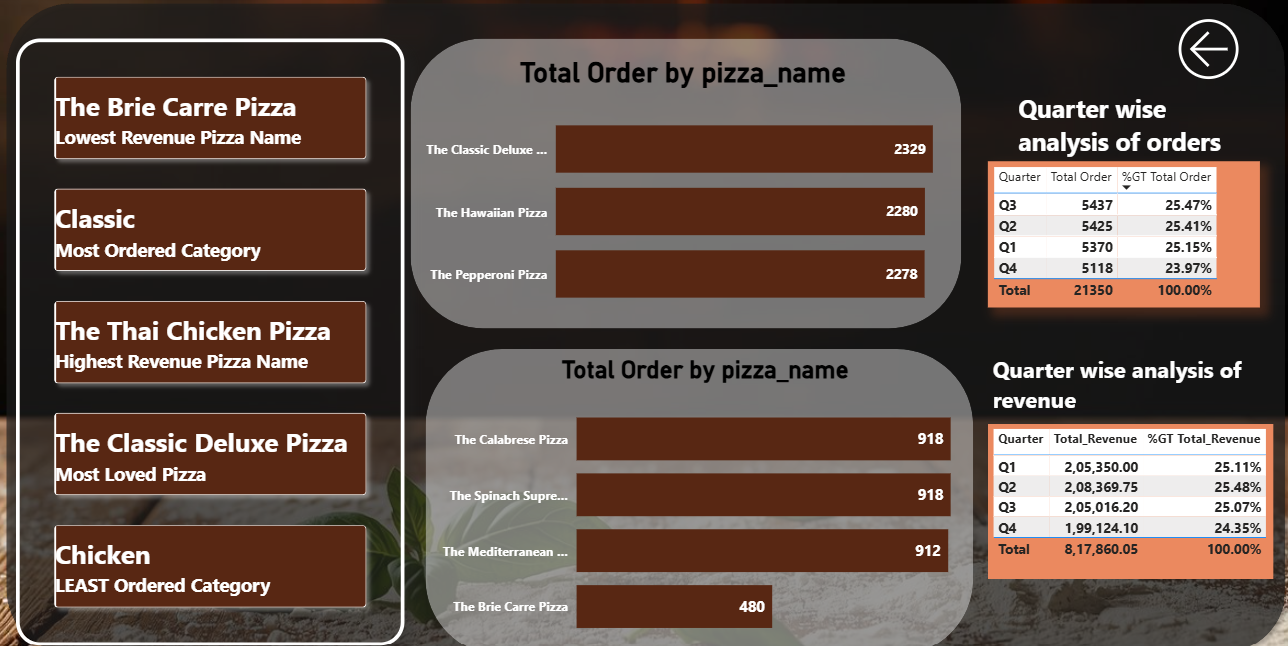

This screenshot's page, from the dashboard's own definition file:
{"tool":"powerbi","page":{"name":"Analysis","canvas":[1400,720],"ordinal":3},"visuals":[{"type":"shape","box":[0,0,1399.5,720.4],"z":0},{"type":"cardVisual","fields":{"Data":["pizza_sales.Lowest Revenue Pizza Name","pizza_sales.Most Ordered Category","pizza_sales.Highest Revenue Pizza Name","pizza_sales.Most Loved Pizza","DateTable.LEAST Ordered Category"]},"box":[19.9,46.4,419,655.8],"z":1000},{"type":"shape","box":[462.1,382.6,591.2,331.2],"z":2000},{"type":"barChart","fields":{"Y":["pizza_sales.Total Order"],"Category":["pizza_sales.pizza_name"]},"box":[443.9,395.8,609.5,324.6],"z":3000},{"type":"shape","box":[445.5,46.4,594.6,313],"z":4000},{"type":"barChart","fields":{"Y":["pizza_sales.Total Order"],"Category":["pizza_sales.pizza_name"]},"box":[438.9,66.2,601.2,294.8],"z":5000},{"type":"actionButton","box":[1267,18.2,94.4,81.2],"z":6000},{"type":"tableEx","fields":{"Values":["DateTable.Quarter","pizza_sales.Total_Revenue","Divide(pizza_sales.Total_Revenue, ScopedEval(pizza_sales.Total_Revenue, []))"]},"box":[1068.2,463.7,308,167.3],"z":7000},{"type":"tableEx","fields":{"Values":["DateTable.Quarter","pizza_sales.Total Order","Divide(pizza_sales.Total Order, ScopedEval(pizza_sales.Total Order, []))"]},"box":[1068.2,180.5,293.1,157.3],"z":8000},{"type":"textbox","box":[1096.4,99.4,265,81.2],"z":9000},{"type":"textbox","box":[1068.2,382.6,293.1,81.2],"z":10000}]}

Visuals, with their boxes in screenshot pixels (x1, y1, x2, y2), scaled from the page's 1400x720 canvas onto the 1288x646 screenshot:
shape: (0,0,1287,645)
cardVisual - pizza_sales.Lowest Revenue Pizza Name x pizza_sales.Most Ordered Category: (18,42,404,630)
shape: (425,343,969,640)
barChart - pizza_sales.Total Order x pizza_sales.pizza_name: (408,355,969,645)
shape: (410,42,957,322)
barChart - pizza_sales.Total Order x pizza_sales.pizza_name: (404,59,957,324)
actionButton: (1166,16,1252,89)
tableEx - DateTable.Quarter x pizza_sales.Total_Revenue: (983,416,1266,566)
tableEx - DateTable.Quarter x pizza_sales.Total Order: (983,162,1252,303)
textbox: (1009,89,1252,162)
textbox: (983,343,1252,416)
